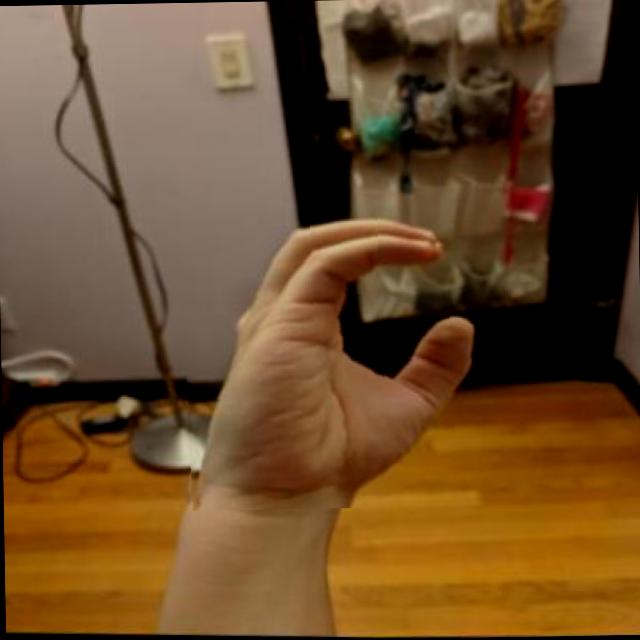C: (178, 204, 483, 510)
